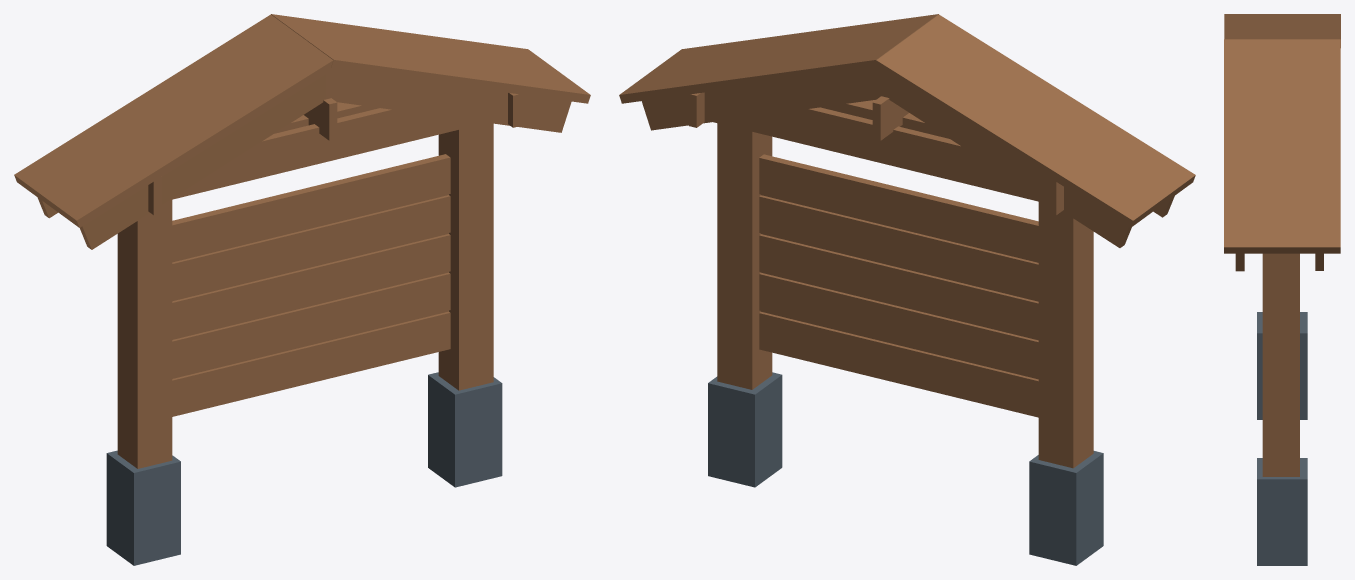
Rendered from MapStructureSmaller.glb.
3 renders of one model, left to right at view 1: azimuth 30°, elevation 25°; view 2: azimuth 150°, elevation 25°; view 3: azimuth 270°, elevation 25°, orthographic. The views are drawn at different scales.
Parts seen in each view (by area): view 1: Sign, RightCorner.005, RightCorner.003; view 2: Sign, RightCorner.005, RightCorner.003; view 3: Sign, RightCorner.005, RightCorner.003.
Boxes of the visible parts, x1=… form: Sign: x1=14, y1=14, x2=590, y2=468; RightCorner.005: x1=428, y1=372, x2=502, y2=487; RightCorner.003: x1=106, y1=450, x2=180, y2=565; Sign: x1=619, y1=14, x2=1195, y2=468; RightCorner.005: x1=708, y1=372, x2=782, y2=487; RightCorner.003: x1=1029, y1=451, x2=1103, y2=565; Sign: x1=1224, y1=14, x2=1340, y2=476; RightCorner.005: x1=1257, y1=458, x2=1307, y2=565; RightCorner.003: x1=1257, y1=312, x2=1307, y2=419.
Size of what is drawn, in the model's own units: 5.11 by 4.51 by 1.08.
